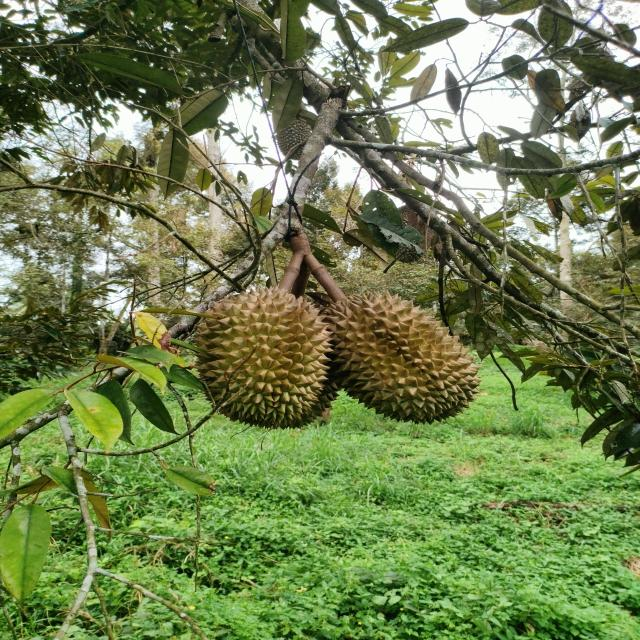mature: (312, 292, 482, 425), (191, 286, 328, 426)
